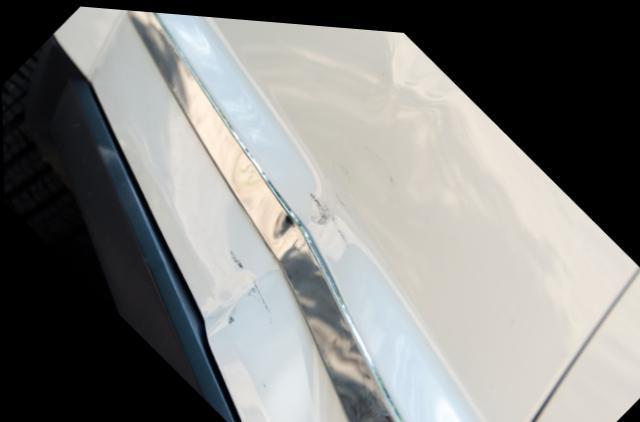dent: (208, 13, 539, 336), (161, 87, 348, 422)
